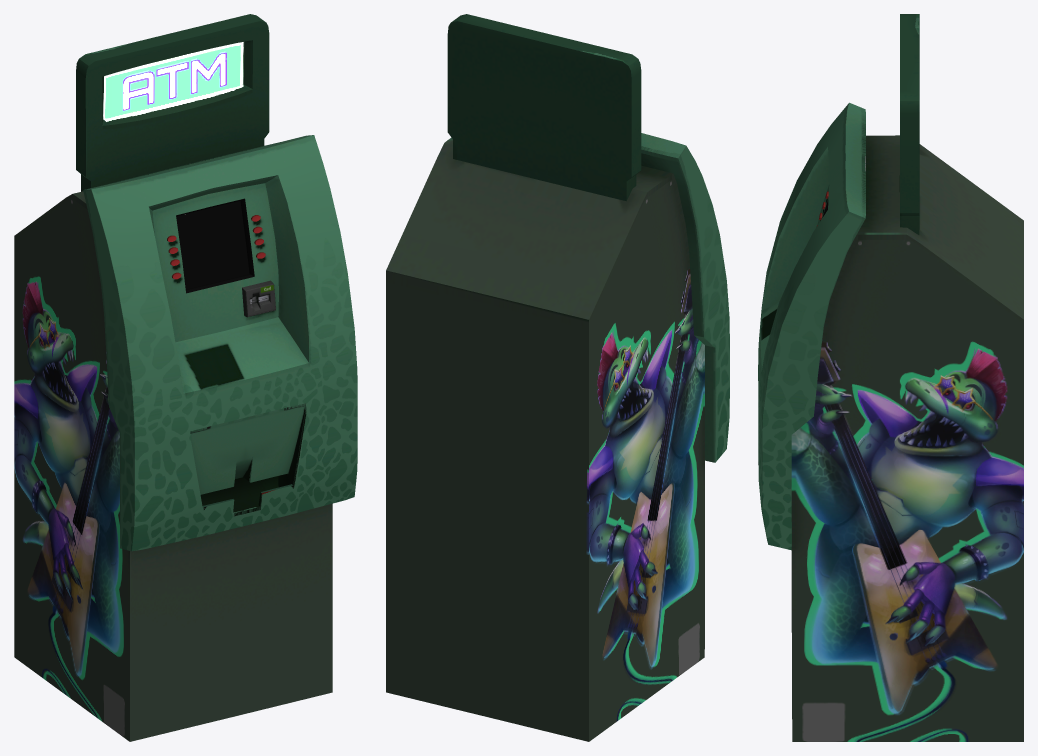
File: ATM_Green.fbx
3 views of the same model, side by side, from view 1: azimuth 30°, elevation 25°; view 2: azimuth 150°, elevation 25°; view 3: azimuth 270°, elevation 25° (orthographic).
Visible parts, largest first — view 1: ATM_Green; view 2: ATM_Green; view 3: ATM_Green.
Part boxes in pixels (left/top/right/bottom): ATM_Green: left=14, top=14, right=357, bottom=741; ATM_Green: left=386, top=14, right=729, bottom=741; ATM_Green: left=758, top=14, right=1023, bottom=741.
Bounding box in the file's own units: 21.08 × 57.51 × 21.72.
2 materials, 2 textured.
